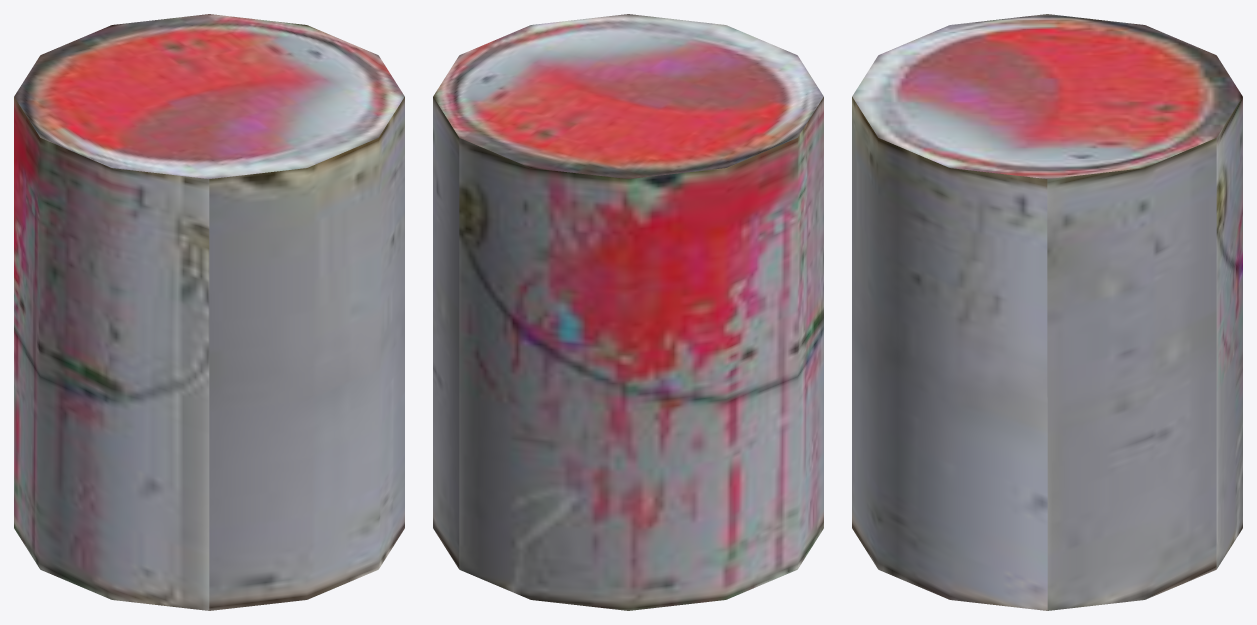
File: paint_can.FBX
3 views of the same model, side by side, from view 1: azimuth 30°, elevation 25°; view 2: azimuth 150°, elevation 25°; view 3: azimuth 270°, elevation 25° (orthographic).
Visible parts, largest first — view 1: Cylinder001; view 2: Cylinder001; view 3: Cylinder001.
Boxes of the visible parts, left/top/right/bottom form: Cylinder001: left=14, top=14, right=404, bottom=610; Cylinder001: left=433, top=14, right=823, bottom=610; Cylinder001: left=852, top=14, right=1242, bottom=610.
Bounding box in the file's own units: 14.74 × 17.97 × 14.74.
